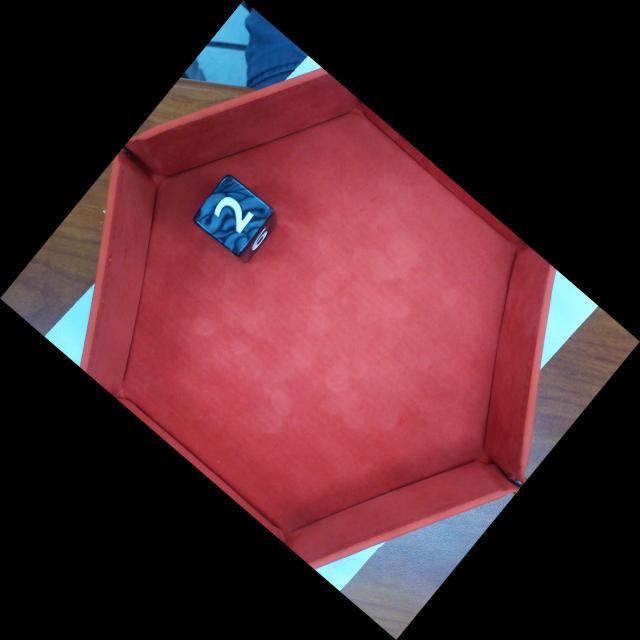dice: (190, 170, 276, 258)
